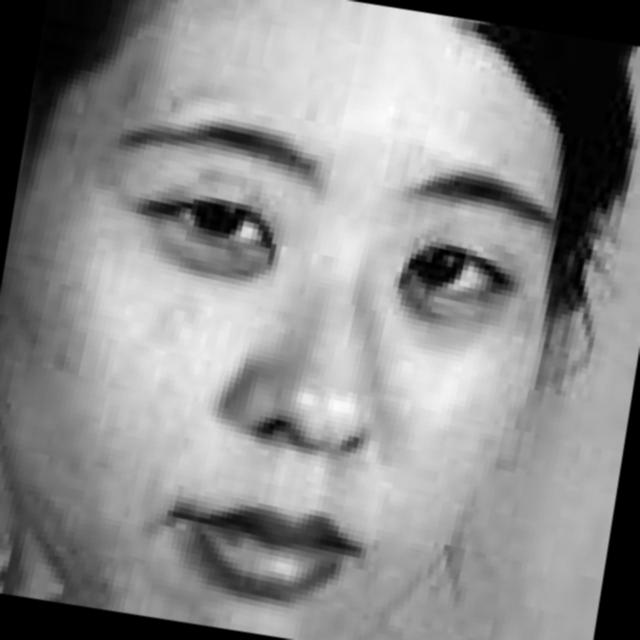disgust: (8, 3, 623, 640)
